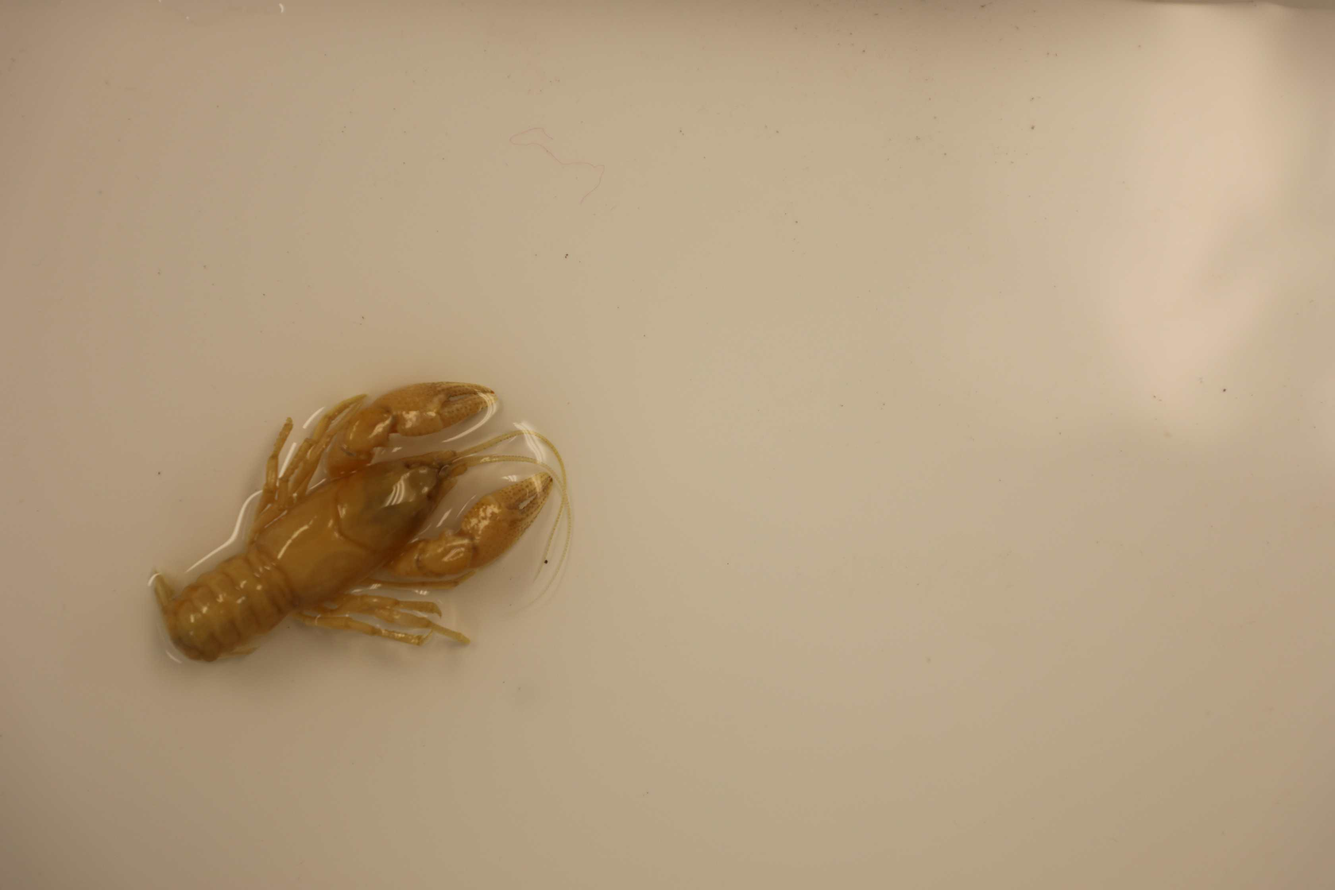Other: (147, 372, 573, 665)
